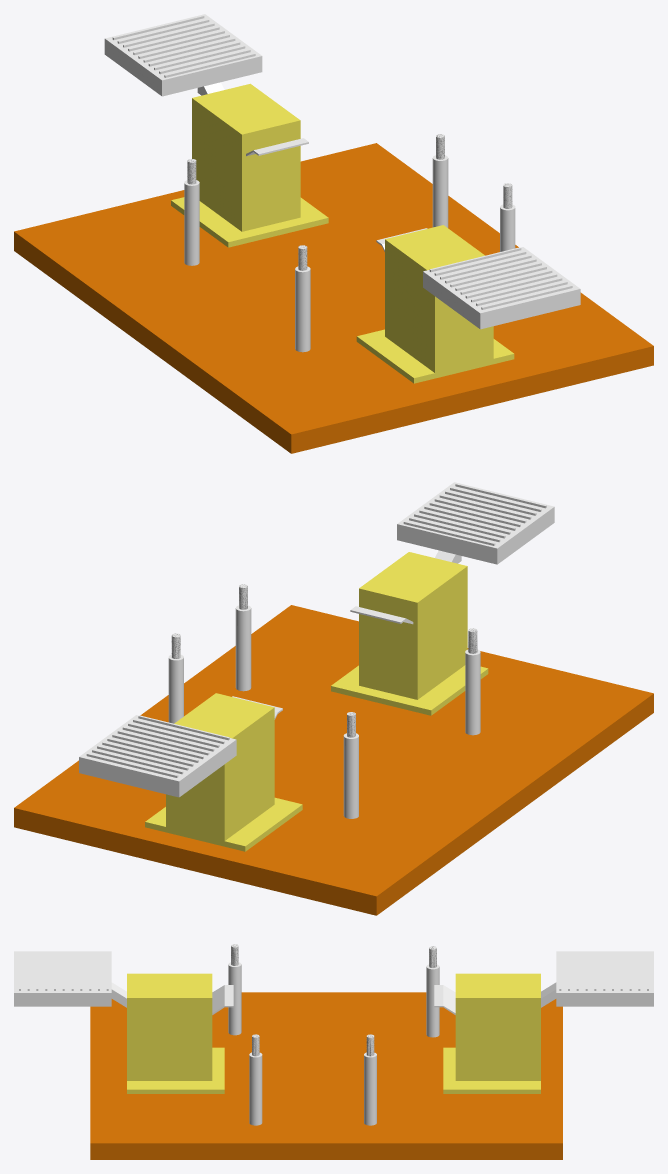
Rendered from test_station.dae.
3 views of the same model, one above another, from view 1: azimuth 30°, elevation 25°; view 2: azimuth 150°, elevation 25°; view 3: azimuth 270°, elevation 25° (orthographic). The views are drawn at different scales.
Parts seen in each view (by area): view 1: group_9, group_4.002, group_1.002, group_6, group_3, group_5, group_2, group_8, group_8.001, group_8.002, group_8.003; view 2: group_9, group_1.002, group_4.002, group_3, group_6, group_2, group_5, group_8.003, group_8.001, group_8, group_8.002; view 3: group_9, group_1.002, group_4.002, group_3, group_6, group_2, group_5, group_8.003, group_8.002, group_8, group_8.001, group_1.014 (+1 smaller).
Part boxes in pixels (bbox=[...]): group_9: bbox=[14, 143, 653, 453]; group_4.002: bbox=[192, 83, 300, 231]; group_1.002: bbox=[385, 225, 493, 372]; group_6: bbox=[104, 14, 262, 96]; group_3: bbox=[423, 247, 580, 329]; group_5: bbox=[171, 197, 328, 247]; group_2: bbox=[356, 329, 514, 383]; group_8: bbox=[184, 180, 199, 265]; group_8.001: bbox=[295, 266, 310, 352]; group_8.002: bbox=[432, 155, 448, 227]; group_8.003: bbox=[500, 204, 515, 251]; group_9: bbox=[14, 605, 653, 915]; group_1.002: bbox=[359, 552, 467, 699]; group_4.002: bbox=[166, 693, 274, 841]; group_3: bbox=[397, 482, 554, 564]; group_6: bbox=[79, 715, 236, 797]; group_2: bbox=[331, 665, 488, 715]; group_5: bbox=[145, 797, 302, 851]; group_8.003: bbox=[235, 605, 251, 691]; group_8.001: bbox=[465, 649, 480, 735]; group_8: bbox=[343, 733, 358, 818]; group_8.002: bbox=[168, 654, 183, 723]; group_9: bbox=[90, 992, 562, 1159]; group_1.002: bbox=[127, 973, 212, 1080]; group_4.002: bbox=[455, 973, 540, 1080]; group_3: bbox=[14, 951, 111, 1006]; group_6: bbox=[556, 951, 653, 1006]; group_2: bbox=[127, 1047, 224, 1093]; group_5: bbox=[443, 1047, 540, 1093]; group_8.003: bbox=[249, 1052, 262, 1125]; group_8.002: bbox=[364, 1052, 376, 1125]; group_8: bbox=[426, 964, 439, 1037]; group_8.001: bbox=[228, 962, 241, 1035]; group_1.014: bbox=[212, 985, 233, 1014].
Size of the model in its own units: 0.087 by 0.1559 by 0.0322.
